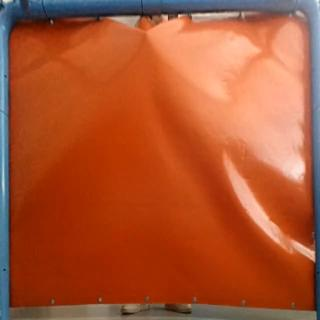Hit-hRxx: (142, 28, 152, 42)
